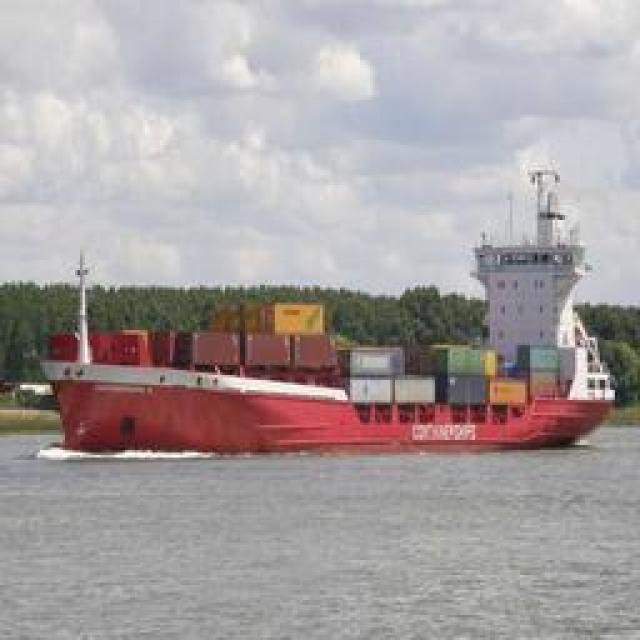ship2: (41, 150, 616, 459)
